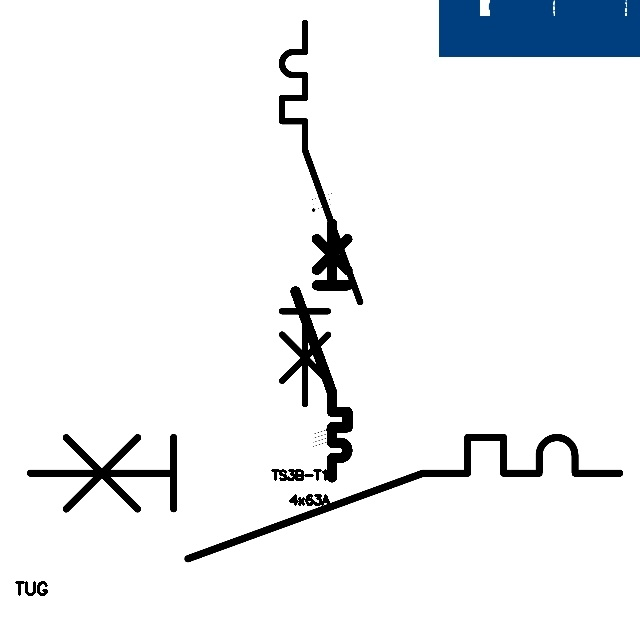interruptor_termomagnetico: (15, 422, 635, 574), (272, 13, 370, 414), (289, 217, 354, 483)
